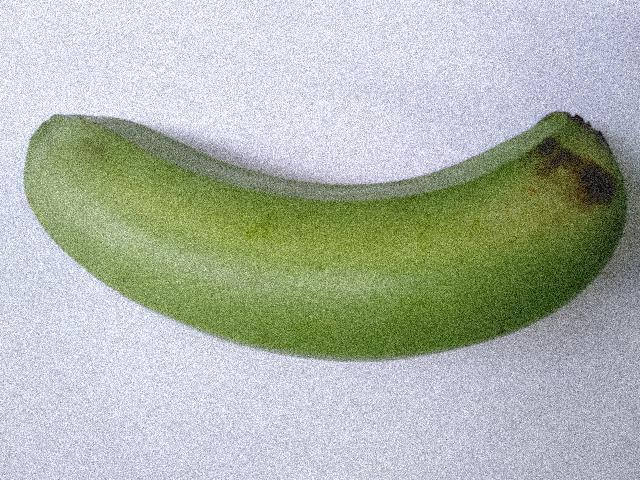freshunripe: (13, 77, 639, 376)
